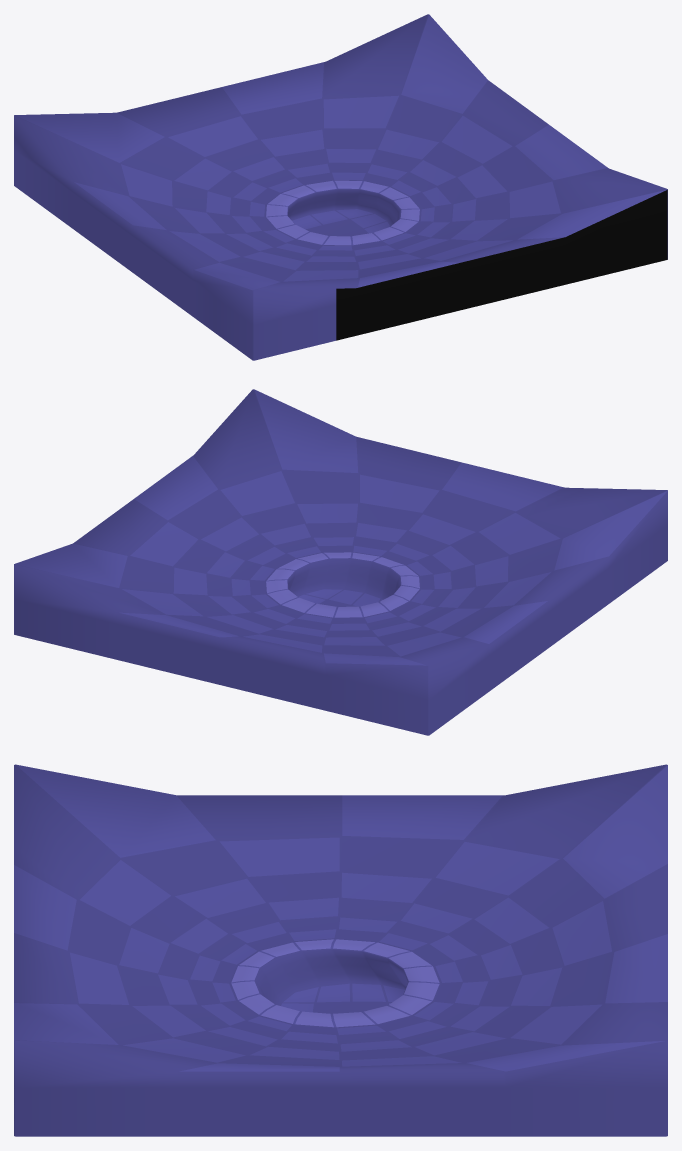
Rendered from SlopedFloor.glb.
The picture shows the model from 3 angles, top to bottom: view 1: azimuth 30°, elevation 25°; view 2: azimuth 150°, elevation 25°; view 3: azimuth 270°, elevation 25°; orthographic projection. The views are drawn at different scales.
Parts seen in each view (by area): view 1: SlopedFloor; view 2: SlopedFloor; view 3: SlopedFloor.
Boxes of the visible parts, left/top/right/bottom form: SlopedFloor: left=14, top=14, right=667, bottom=360; SlopedFloor: left=14, top=389, right=667, bottom=735; SlopedFloor: left=14, top=764, right=667, bottom=1136.
Size of the model in its own units: 20.2 by 4.02 by 20.2.
Materials: 1 (1 with a texture image).
